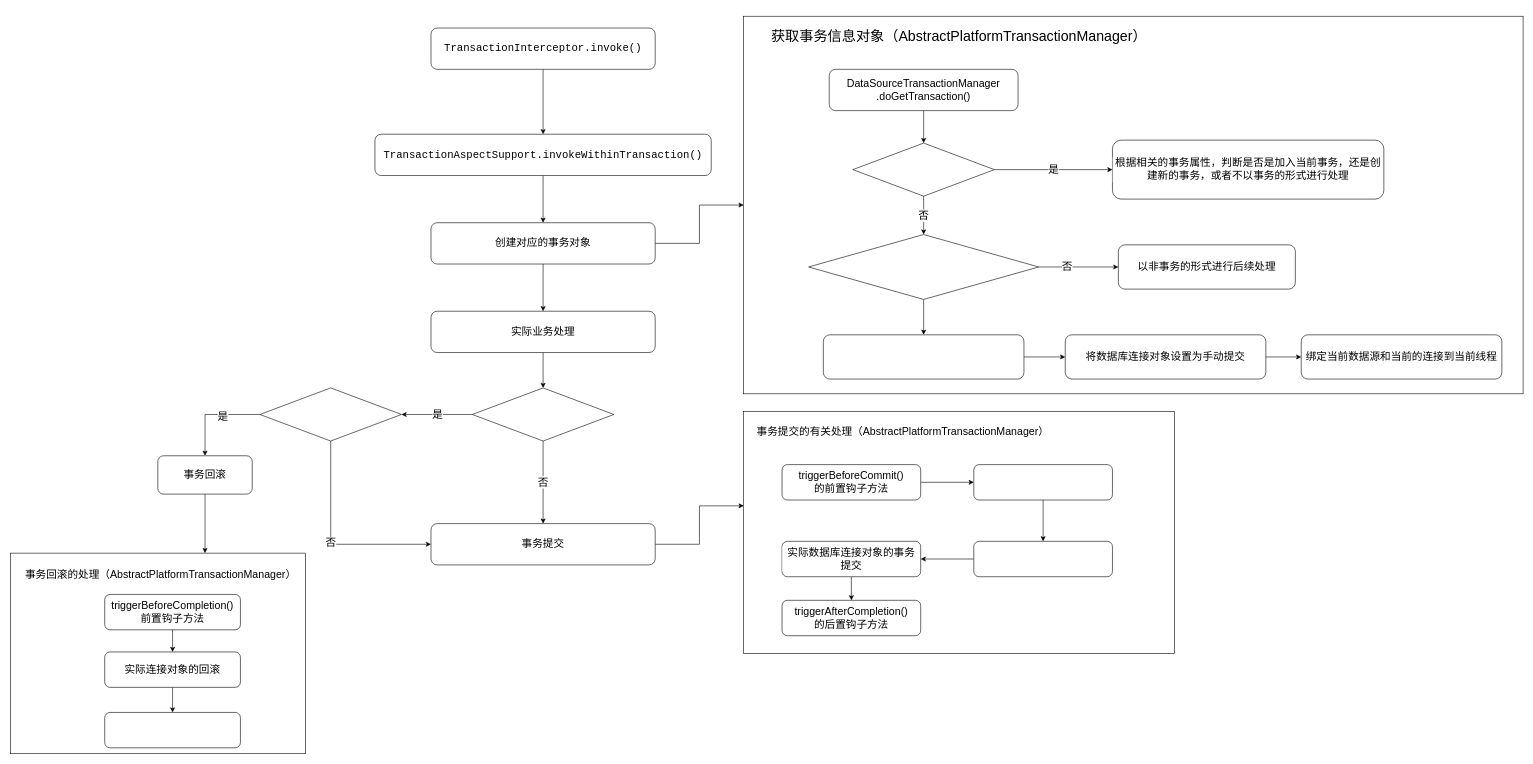
Image size: 1533x764. Some labels were removed from this diagram. The shapes that lost their labels are listed below. From the top down, each one's centre as x and y in pixels, then its label:
At (923,169): "当前是否已经存在事务".
At (923,266): "根据相关的事务配置 属性判断是否需要 启动一个新的事务".
At (923,356): "获取事务对象的数据库连接，如果此时不存在相关的连接，则从数据源对象中获取一个新的数据库连接对象".
At (330,414): "是否是需要 回滚的异常".
At (543,414): "业务处理是否 出现异常".
At (1042,482): "triggerBeforeCompletion() 的前置钩子方法".
At (1042,559): "triggerAfterCommit() 的后置钩子方法".
At (172,730): "triggerAfterCompletion() 后置钩子方法".
